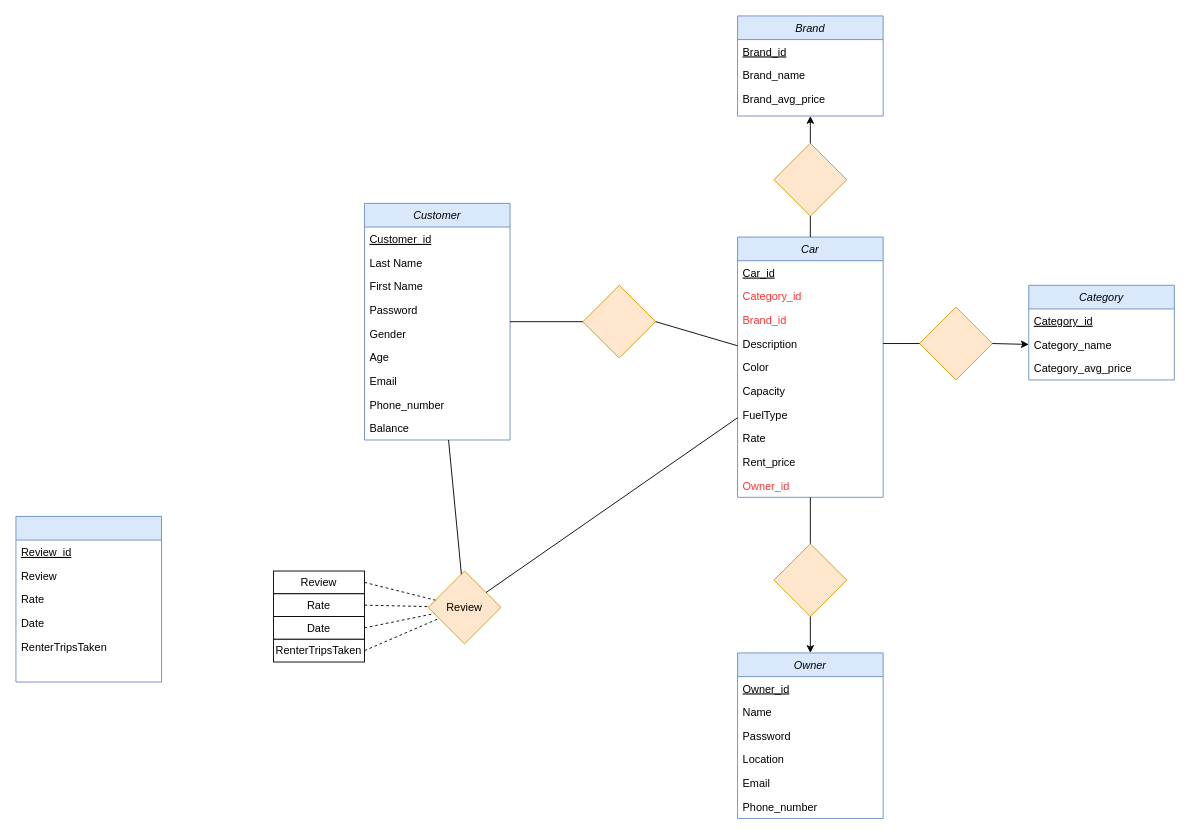
This 1190x837 diagram has some shape labels left out. Here are the shapes that lost their labels. From the top down, the box of each, then its label:
(773, 142, 847, 216): belong
(582, 284, 656, 358): User_order
(919, 306, 992, 380): fall_in
(15, 516, 162, 682): Review (schema)
(773, 543, 847, 617): offer_car
